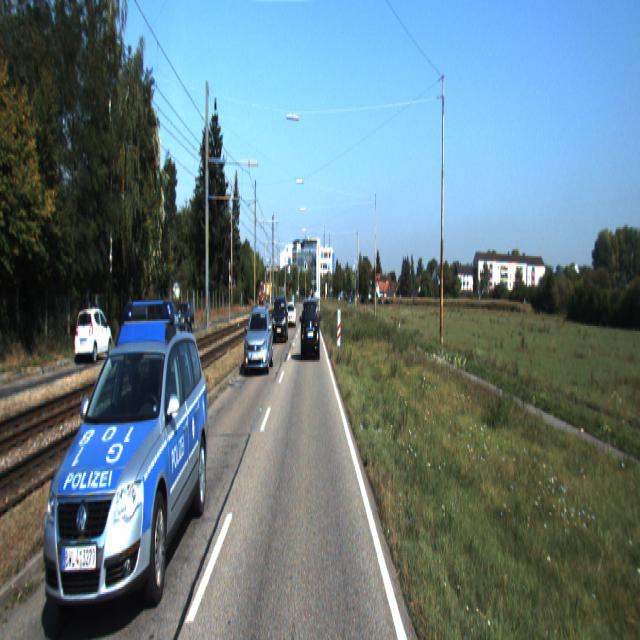Car: (39, 290, 214, 632), (75, 307, 114, 367), (244, 304, 274, 374), (301, 298, 321, 361), (160, 300, 180, 340), (273, 296, 289, 344), (173, 298, 194, 334), (286, 302, 297, 328)
